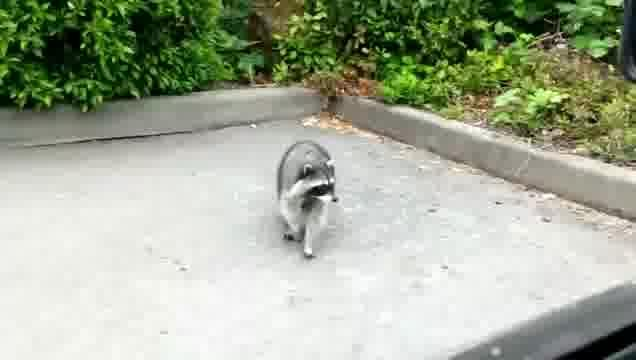raccoon: (275, 138, 341, 267)
